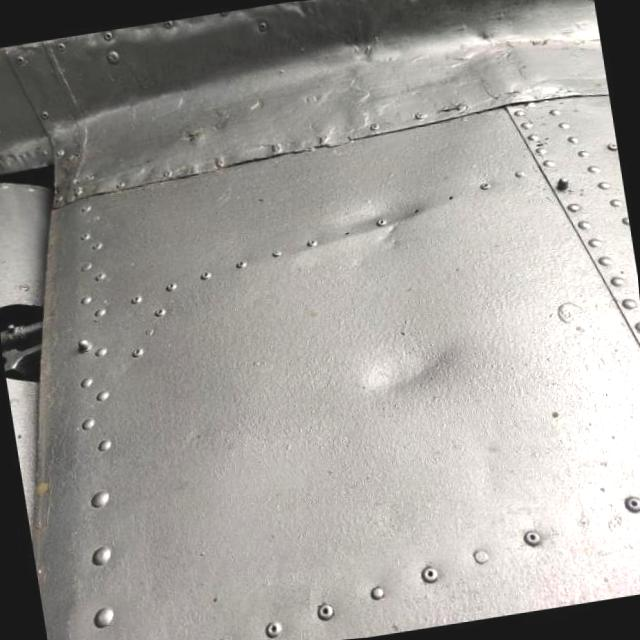dent: (339, 294, 474, 422), (292, 188, 431, 254)
